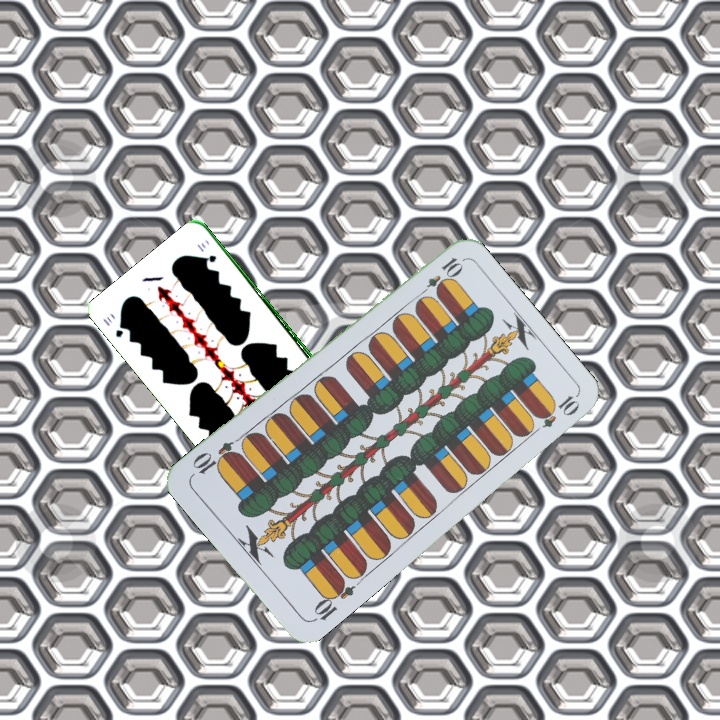E10: (308, 575, 357, 625), (414, 253, 465, 301)
G10: (99, 313, 128, 340)
